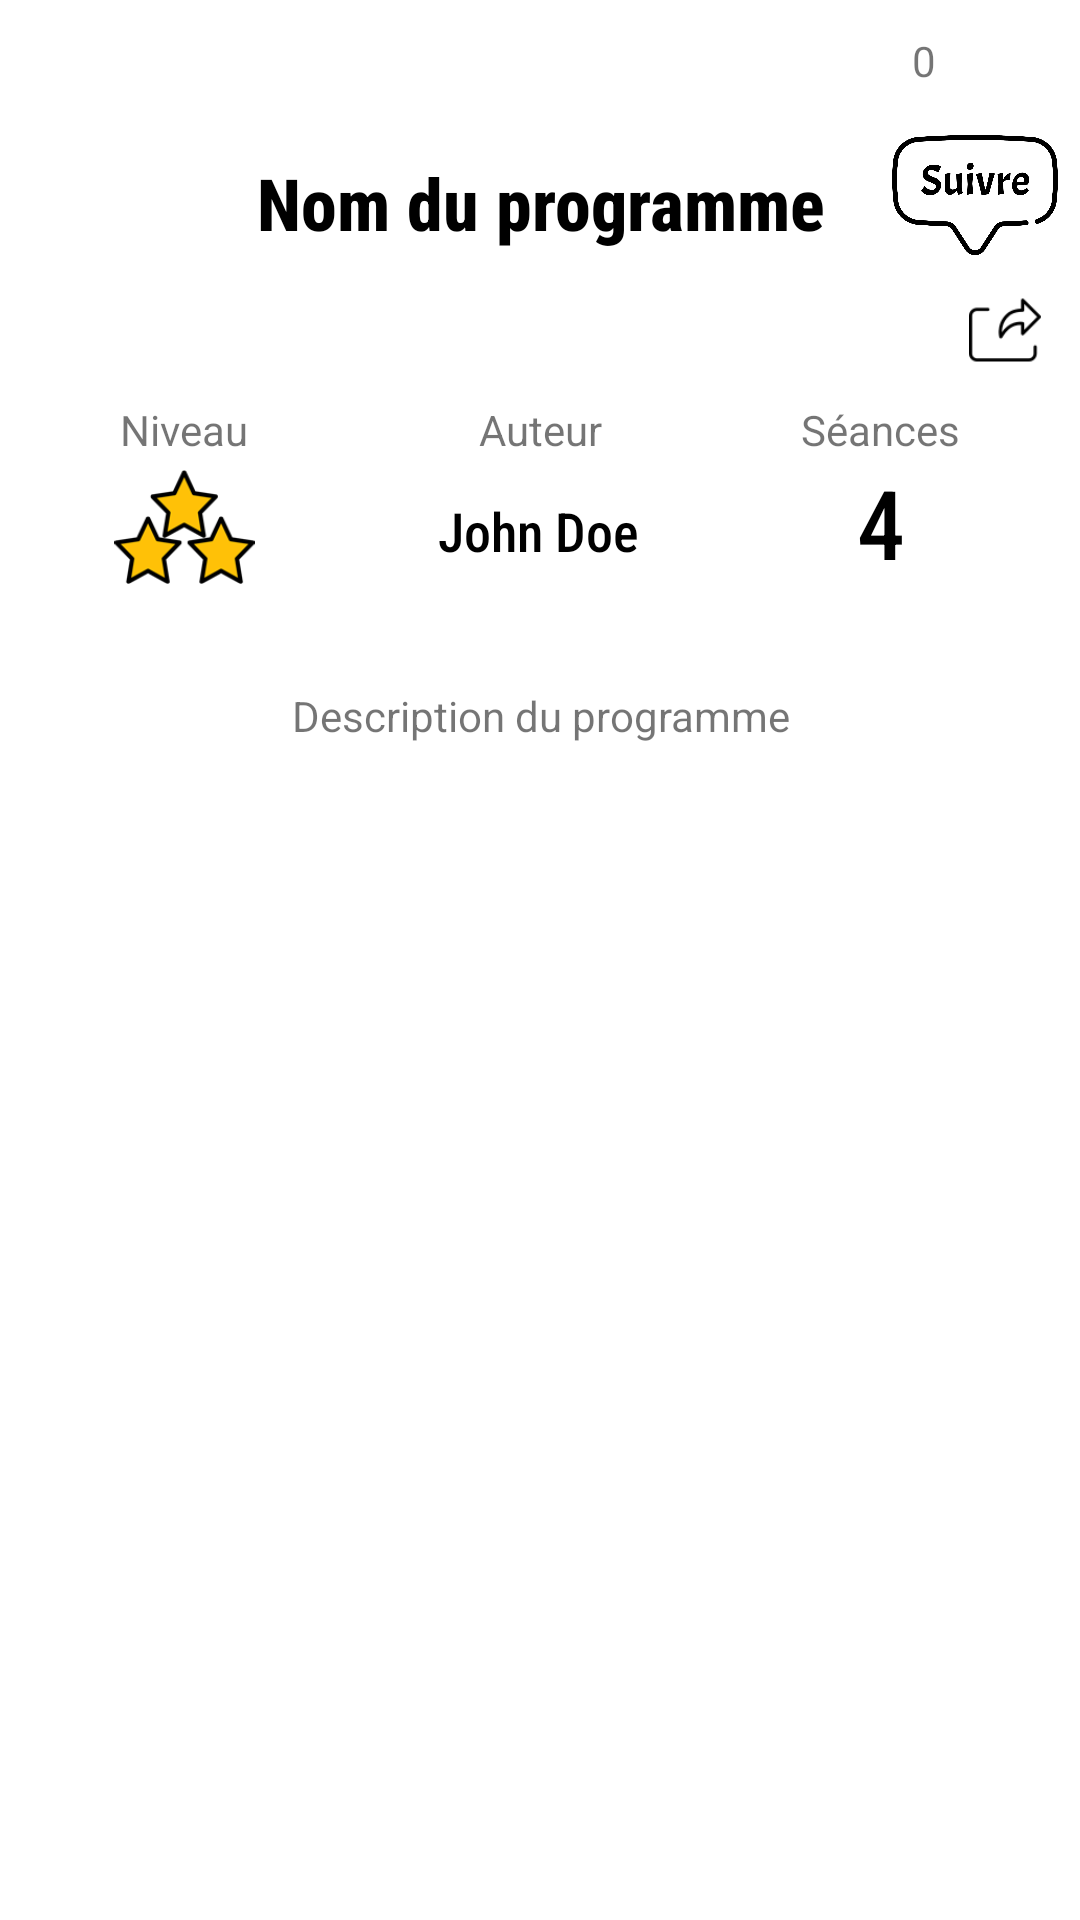

Point at icon controls on the screen. Image size 1080 × 1920, points as (x=x, y=y).
share: (x=1005, y=330)
